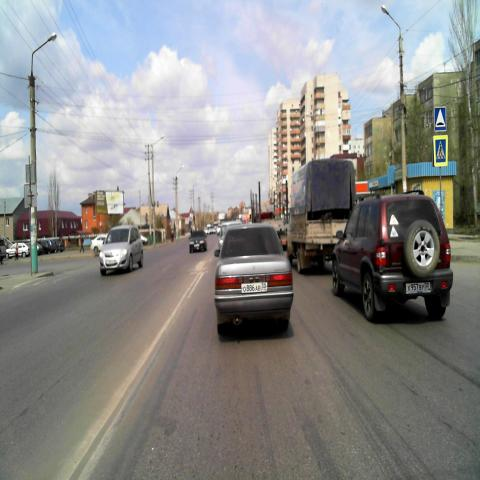5_19_1: (433, 136, 448, 167)
